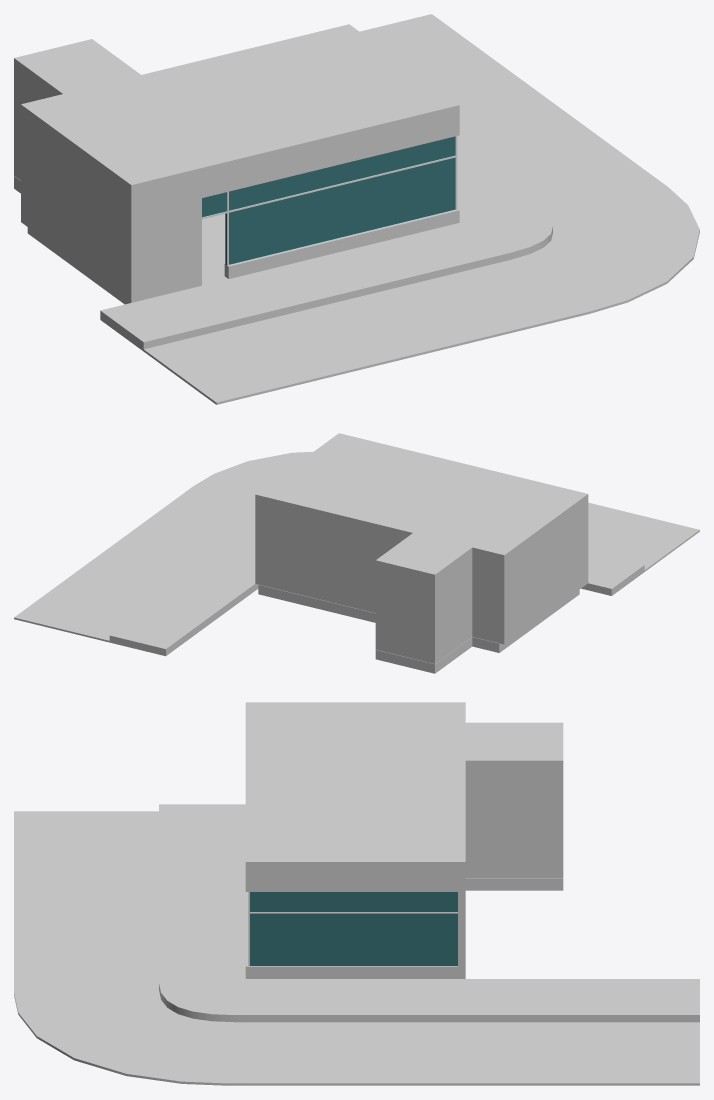
The model's file is layout_3.fbx.
The picture shows the model from 3 angles, top to bottom: view 1: azimuth 30°, elevation 25°; view 2: azimuth 150°, elevation 25°; view 3: azimuth 270°, elevation 25°; orthographic projection. The views are drawn at different scales.
Parts seen in each view (by area): view 1: street_layout_1, ceiling_1, walls, wall_glass_1, floor_1, framework_1, backroom walls; view 2: street_layout_1, ceiling_1, walls, backroom walls, floor_1; view 3: street_layout_1, ceiling_1, wall_glass_1, backroom walls, walls, floor_1.
Boxes of the visible parts, x1,y1,x2,y2 form: street_layout_1: [100, 14, 699, 404]; ceiling_1: [14, 24, 459, 214]; walls: [21, 110, 459, 302]; wall_glass_1: [202, 136, 455, 264]; floor_1: [14, 176, 228, 304]; framework_1: [202, 136, 457, 265]; backroom walls: [14, 88, 31, 180]; street_layout_1: [14, 451, 699, 656]; ceiling_1: [255, 433, 588, 597]; walls: [255, 498, 588, 644]; backroom walls: [375, 571, 472, 663]; floor_1: [258, 584, 579, 673]; street_layout_1: [14, 804, 699, 1085]; ceiling_1: [245, 702, 563, 891]; wall_glass_1: [250, 892, 457, 965]; backroom walls: [465, 791, 563, 877]; walls: [245, 866, 465, 978]; floor_1: [465, 878, 563, 890].
Bounding box in the file's own units: 1871 × 417 × 1994.
